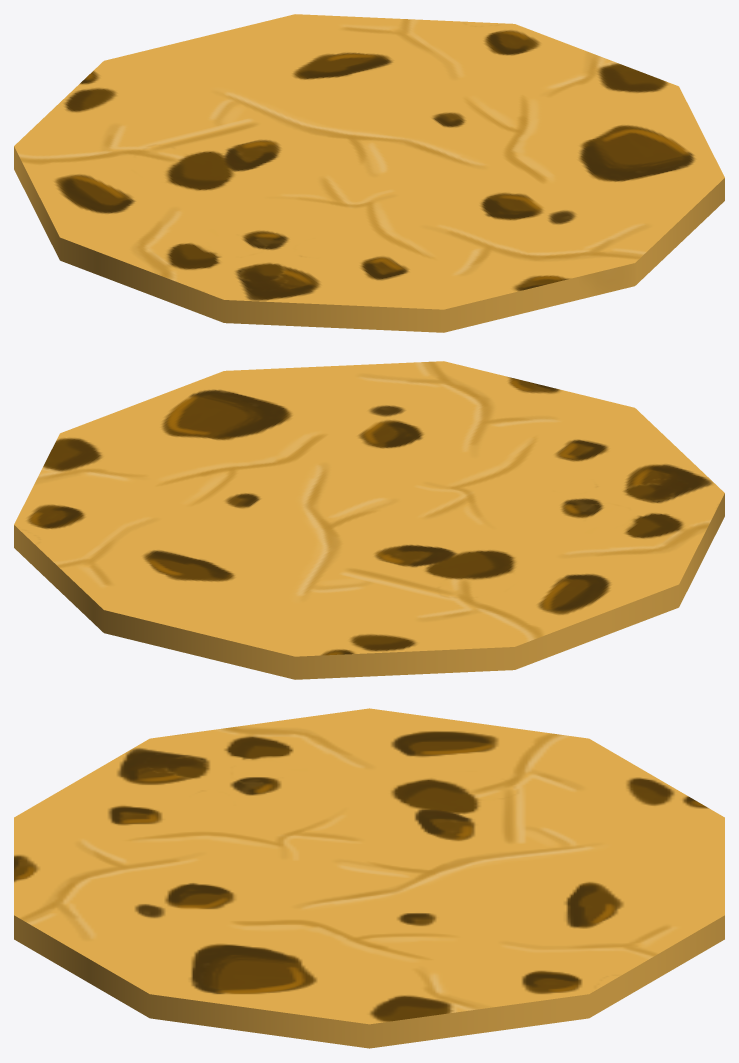
File: cookie.FBX
The picture shows the model from 3 angles, top to bottom: view 1: azimuth 30°, elevation 25°; view 2: azimuth 150°, elevation 25°; view 3: azimuth 270°, elevation 25°; orthographic projection. The views are drawn at different scales.
Visible parts, largest first — view 1: Cylinder001; view 2: Cylinder001; view 3: Cylinder001.
Boxes of the visible parts, box(x1,y1,x2,y2) form: Cylinder001: box(14, 14, 724, 332); Cylinder001: box(14, 361, 724, 679); Cylinder001: box(14, 708, 724, 1048).
Bounding box in the file's own units: 14 × 13.31 × 0.5.
Materials: 1 (1 with a texture image).
